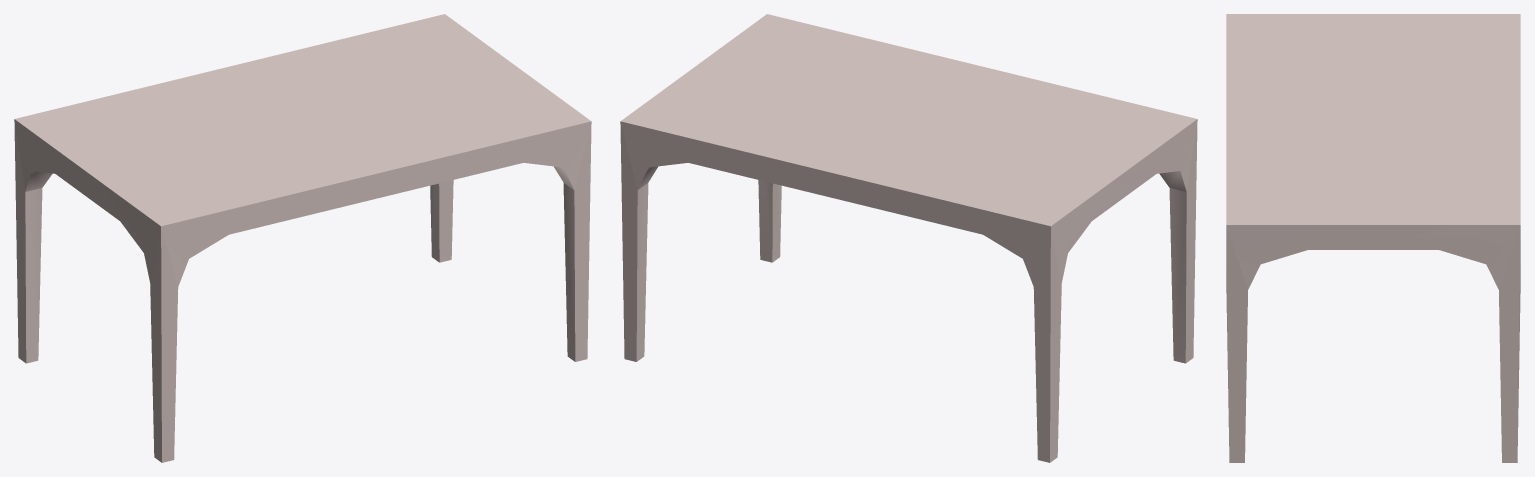
File: kitchen_table_004.glb
3 views of the same model, side by side, from view 1: azimuth 30°, elevation 25°; view 2: azimuth 150°, elevation 25°; view 3: azimuth 270°, elevation 25° (orthographic).
Visible parts, largest first — view 1: kitchen_table_004; view 2: kitchen_table_004; view 3: kitchen_table_004.
Boxes of the visible parts, x1=… form: kitchen_table_004: x1=14, y1=14, x2=591, y2=462; kitchen_table_004: x1=620, y1=14, x2=1197, y2=462; kitchen_table_004: x1=1226, y1=14, x2=1520, y2=462.
Size of the model in its own units: 1.4 by 0.7389 by 0.8238.
Materials: 1 (1 with a texture image).
